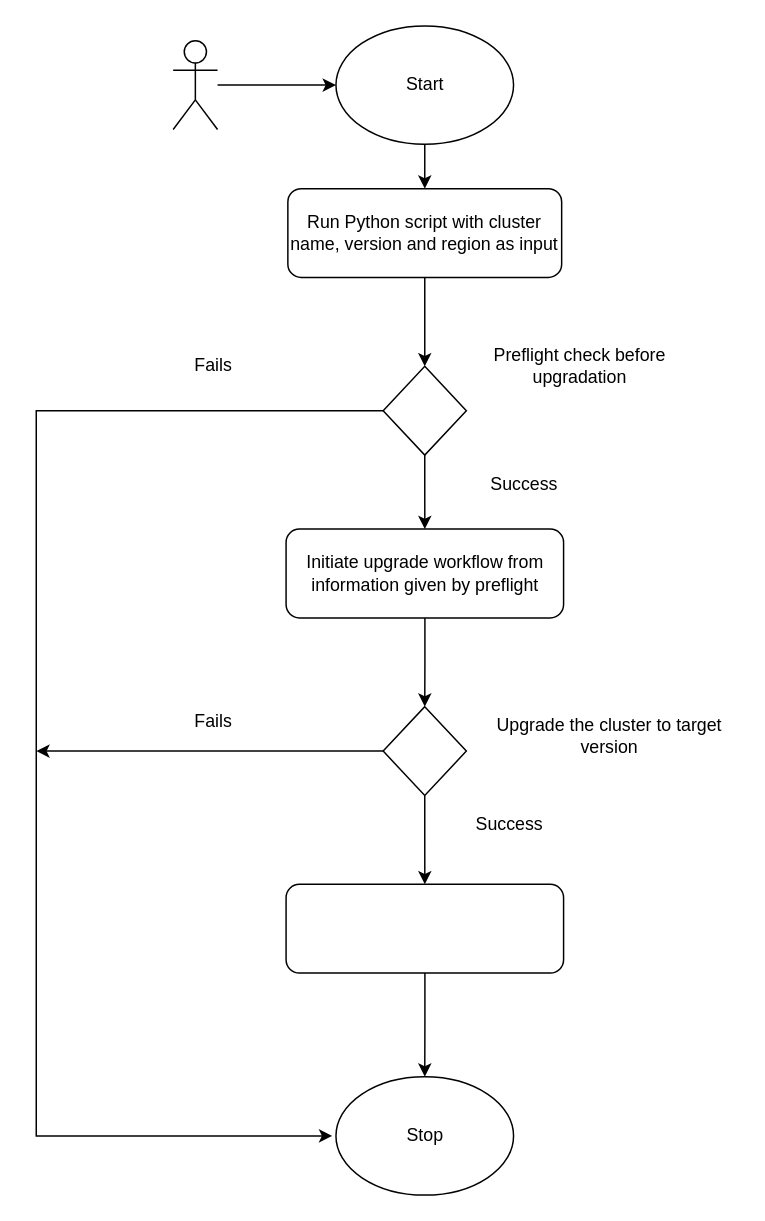
Image size: 765x1221. Some labels were removed from this diagram. The centre of each missing label's shape, as x and y in pixels:
Preflight check after upgradation: pixel 424 928
User: pixel 195 84
